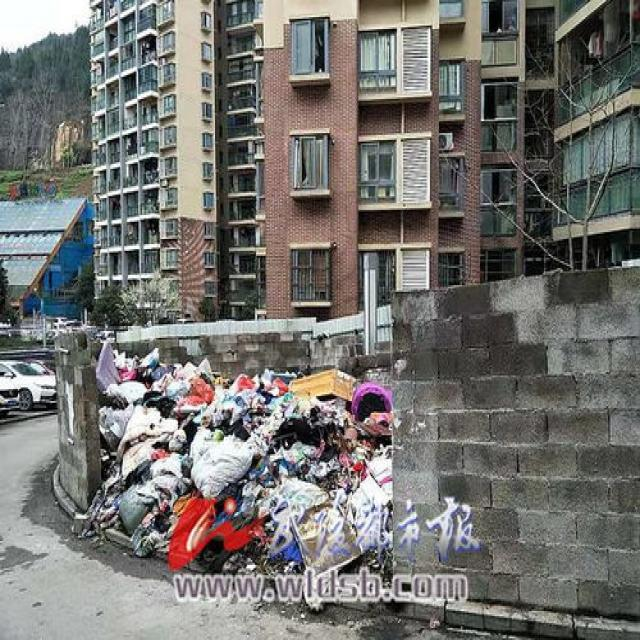garbage: (92, 335, 392, 575)
